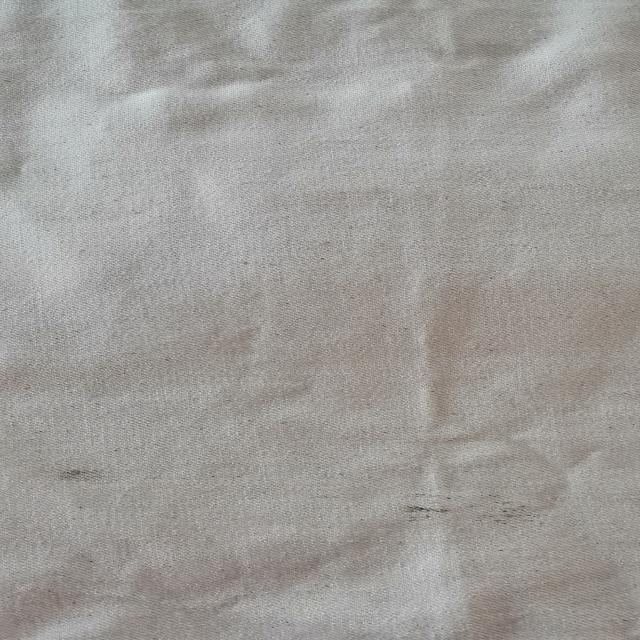taaaches: (390, 488, 557, 534), (51, 456, 120, 496)
